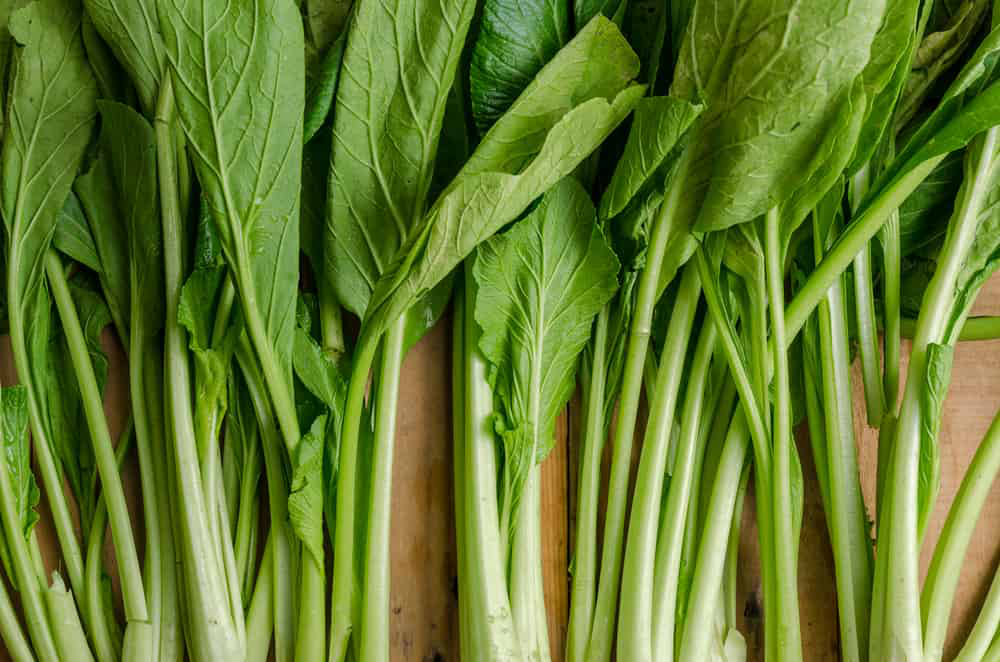Sawi: (15, 22, 415, 601)
